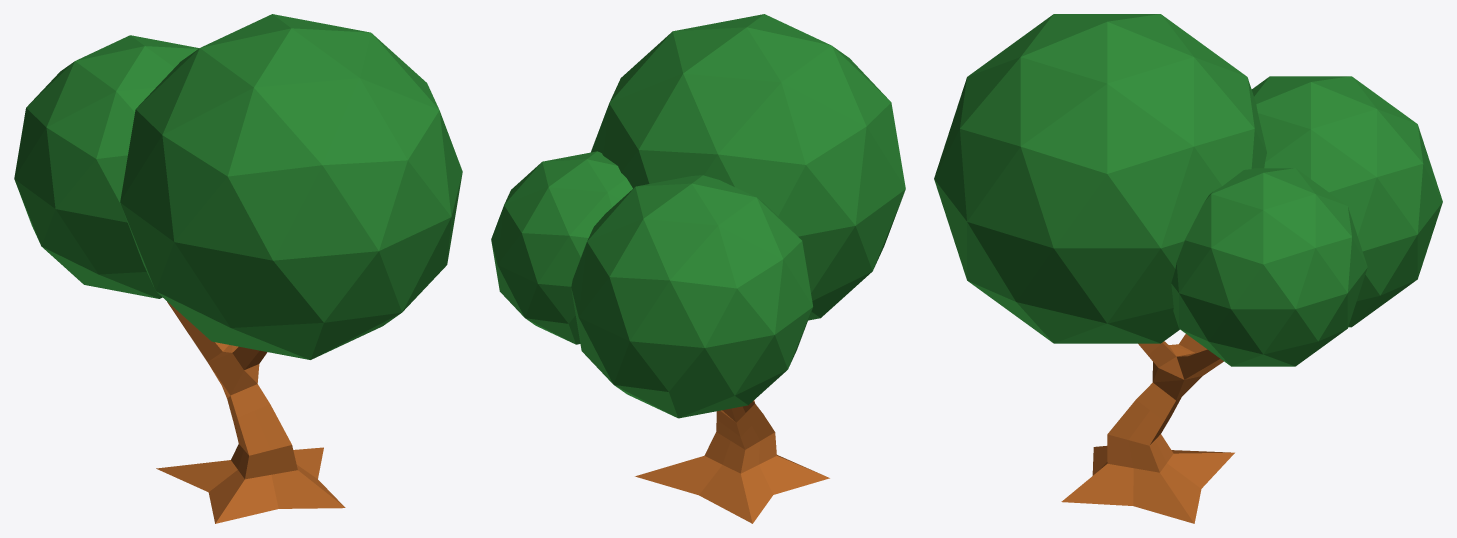
Rendered from bushy-tree.glb.
3 views of the same model, side by side, from view 1: azimuth 30°, elevation 25°; view 2: azimuth 150°, elevation 25°; view 3: azimuth 270°, elevation 25° (orthographic). The views are drawn at different scales.
Parts seen in each view (by area): view 1: 01-tree-col; view 2: 01-tree-col; view 3: 01-tree-col.
Boxes of the visible parts, x1,y1,x2,y2 form: 01-tree-col: (14,14,462,523); 01-tree-col: (491,14,905,523); 01-tree-col: (934,14,1442,523).
Bounding box in the file's own units: 7.89 × 10.62 × 10.52.
